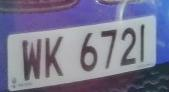1: (136, 21, 149, 66)
2: (118, 24, 140, 68)
6: (74, 28, 101, 77)
7: (97, 26, 120, 75)
K: (42, 32, 67, 84)
W: (19, 35, 45, 86)
